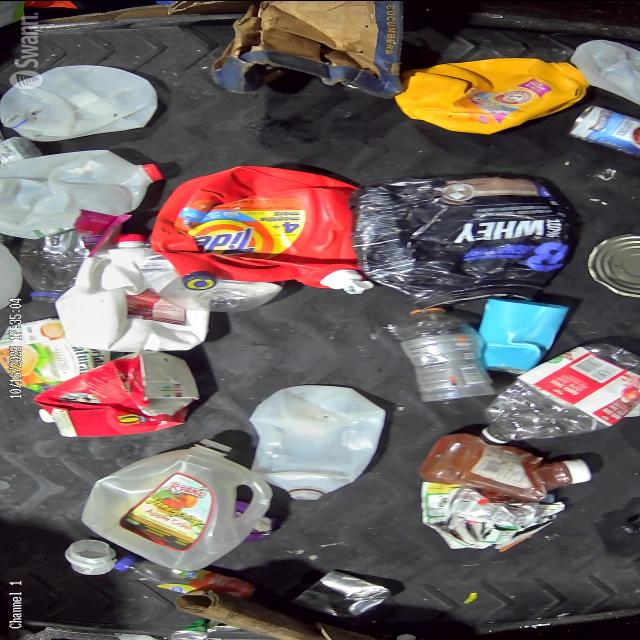can: (296, 568, 396, 620), (589, 236, 640, 297), (572, 108, 640, 142)
milk_jug: (77, 438, 269, 570), (245, 388, 387, 498), (66, 235, 186, 352), (0, 150, 148, 240), (2, 66, 156, 138)
non_white_jug: (362, 174, 562, 312), (150, 172, 353, 292), (394, 53, 590, 131), (39, 353, 200, 441)
plastic_bottle: (473, 348, 631, 442), (18, 226, 98, 305)
